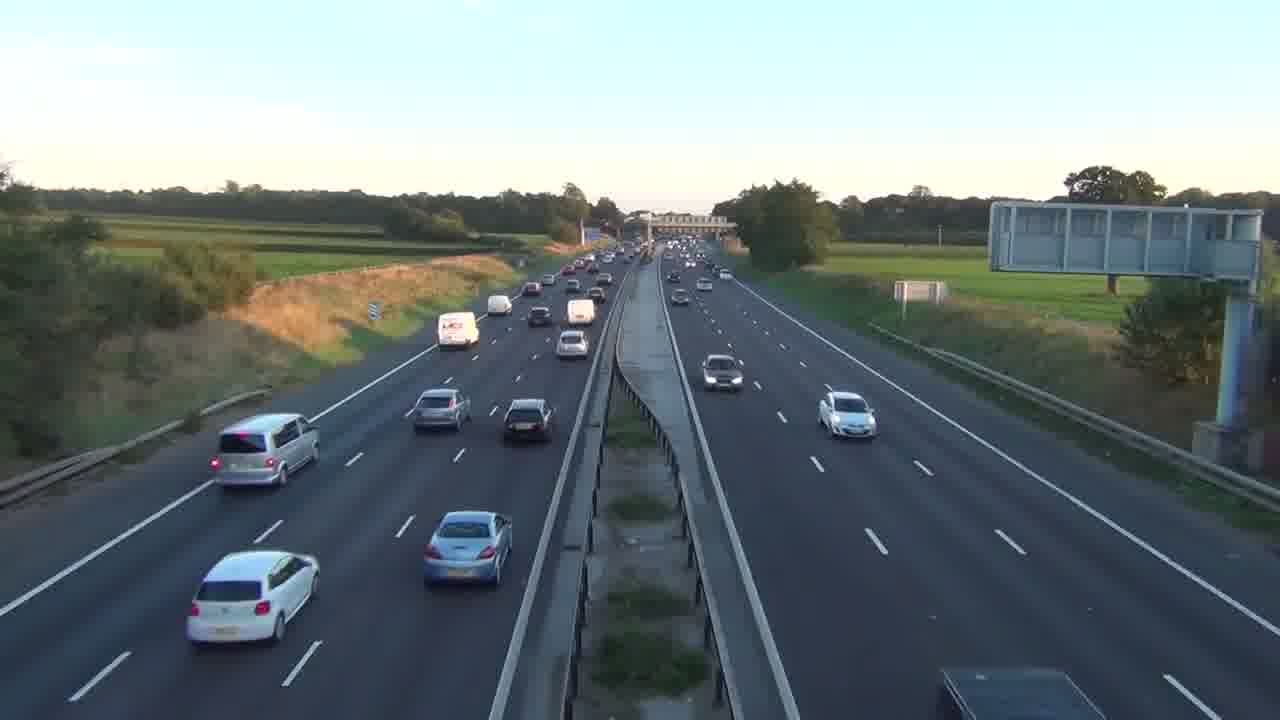car: (185, 548, 320, 648), (933, 665, 1109, 719), (209, 411, 321, 489), (422, 509, 514, 587), (816, 390, 879, 440), (409, 386, 471, 432), (503, 397, 556, 442), (701, 353, 745, 392), (555, 328, 589, 360), (527, 305, 552, 328)
truck: (209, 411, 321, 489), (437, 310, 480, 349)
